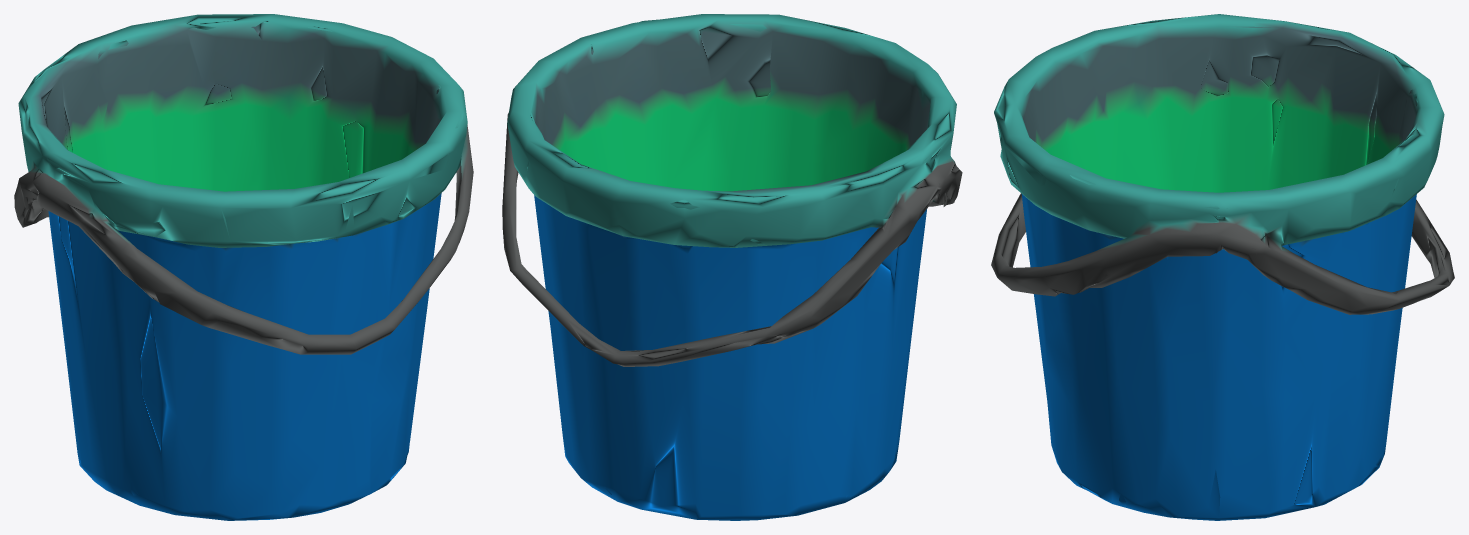
File: gen3d-paint-bucket-lod0.glb
The picture shows the model from 3 angles, left to right: view 1: azimuth 30°, elevation 25°; view 2: azimuth 150°, elevation 25°; view 3: azimuth 270°, elevation 25°; orthographic projection.
Visible parts, largest first — view 1: part_0; view 2: part_0; view 3: part_0.
Boxes of the visible parts, x1=… form: part_0: x1=14, y1=14, x2=473, y2=520; part_0: x1=502, y1=14, x2=962, y2=520; part_0: x1=991, y1=14, x2=1454, y2=520.
Bounding box in the file's own units: 1.26 × 0.9997 × 1.22.
